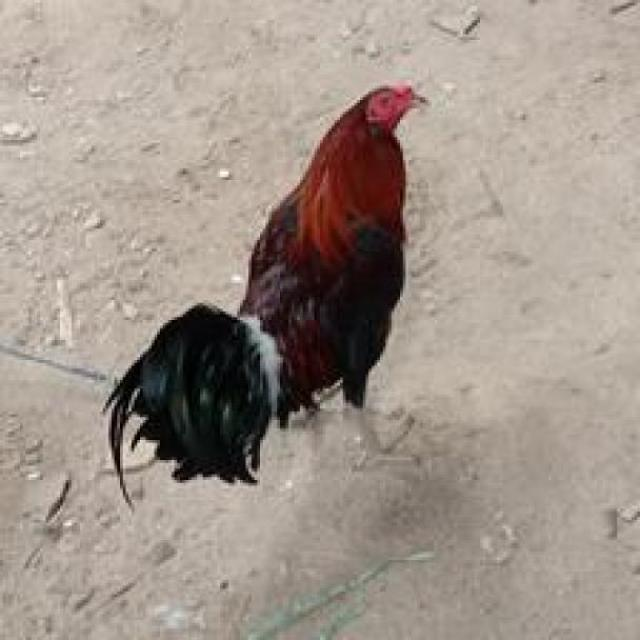Chicken: (106, 79, 480, 506)
